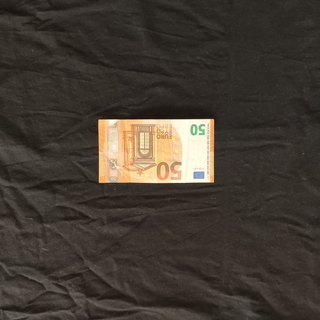50EUROFront: (97, 118, 215, 183)
